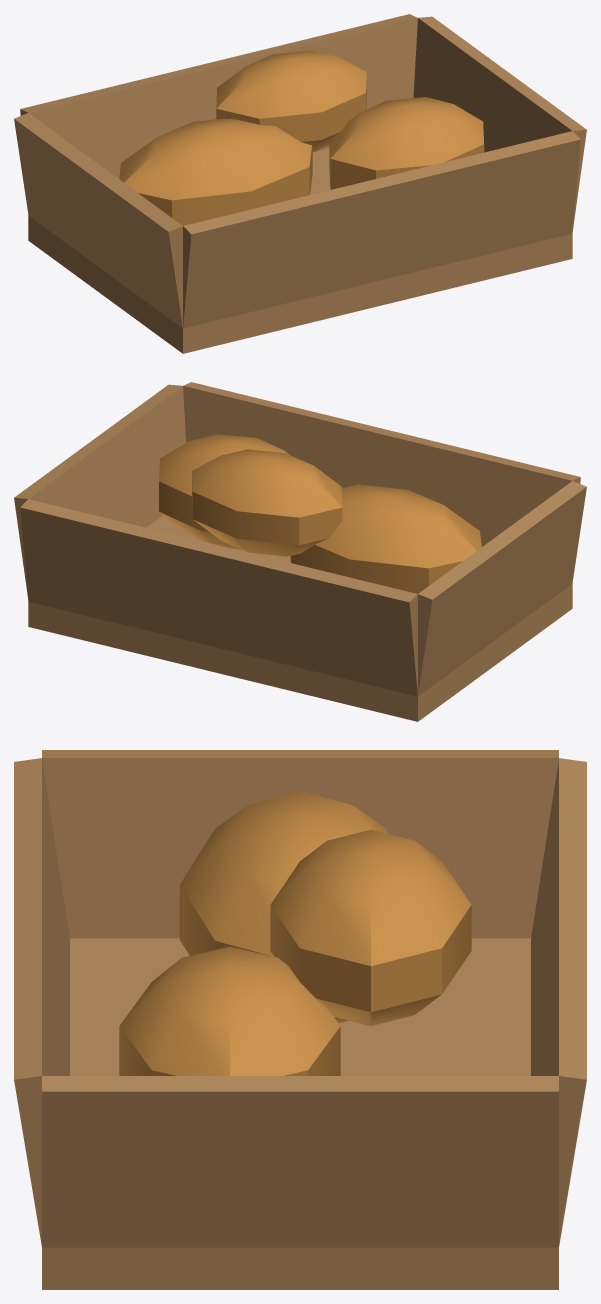
Rendered from tableware_bread_basket.glb.
The picture shows the model from 3 angles, top to bottom: view 1: azimuth 30°, elevation 25°; view 2: azimuth 150°, elevation 25°; view 3: azimuth 270°, elevation 25°; orthographic projection. The views are drawn at different scales.
Visible parts, largest first — view 1: tableware_bread_basket; view 2: tableware_bread_basket; view 3: tableware_bread_basket.
Boxes of the visible parts, x1,y1,x2,y2 form: tableware_bread_basket: [14, 14, 586, 353]; tableware_bread_basket: [14, 382, 586, 721]; tableware_bread_basket: [14, 750, 586, 1289].
Size of the model in its own units: 0.3438 by 0.135 by 0.2438.
